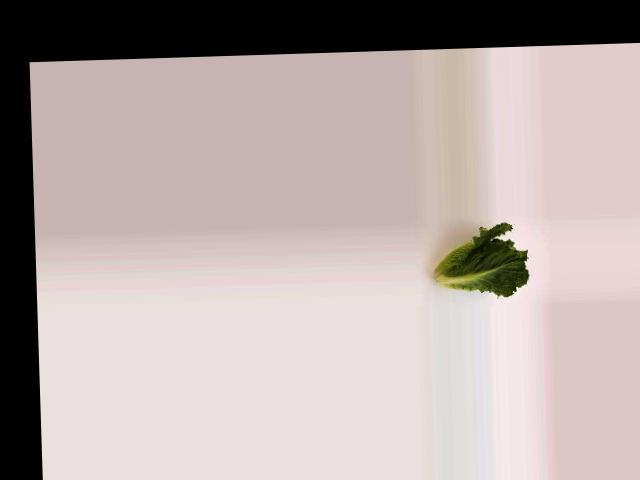lettuce: (421, 225, 532, 301)
